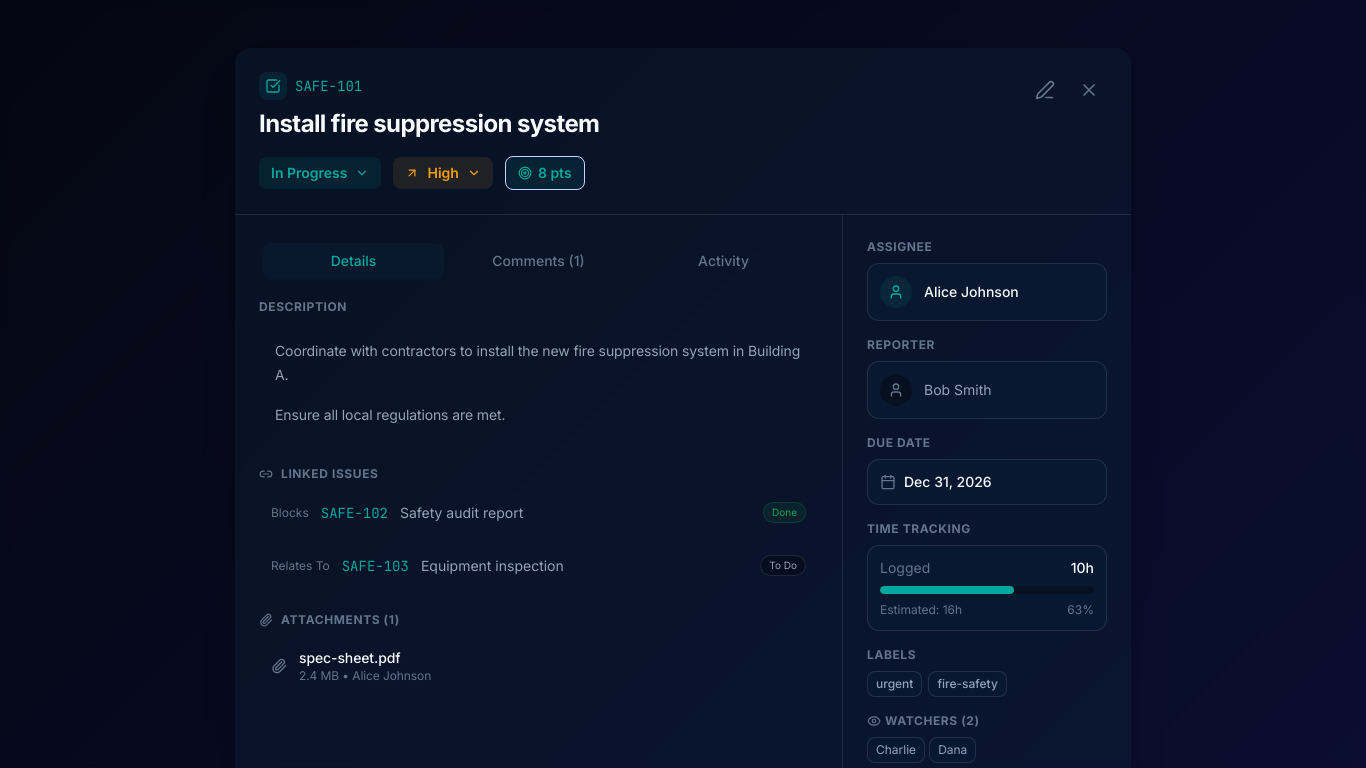
TaskDetailModal — comments tab › Send button is enabled when comment text is entered
This screenshot has width=1366, height=768.
Click the button "Comments (1)" at {"x": 538, "y": 261}, box [448,243,629,279]
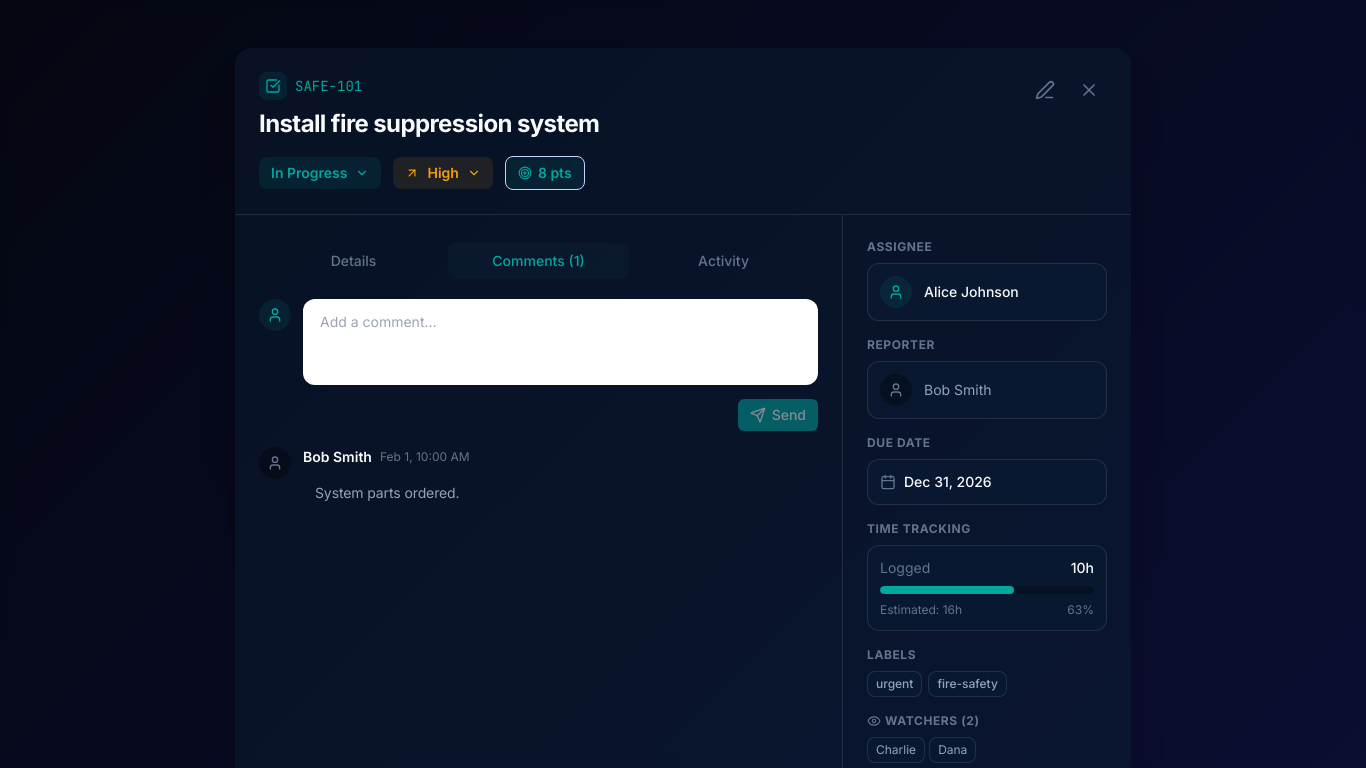
Type "Great progress!" into the text box with placeholder "Add a comment..." at {"x": 560, "y": 342}, box [303,299,818,385]
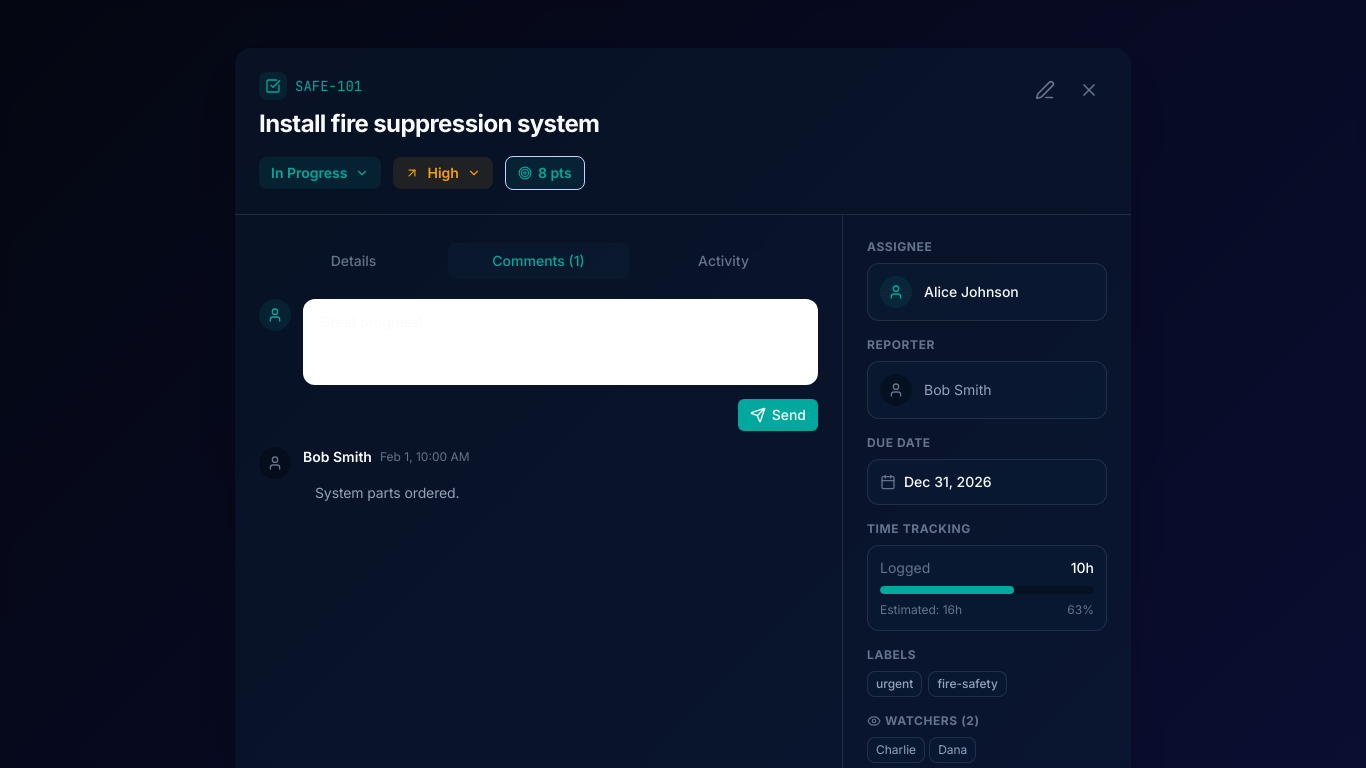
Expected: the button "Send" is enabled, [738,399,818,431]
